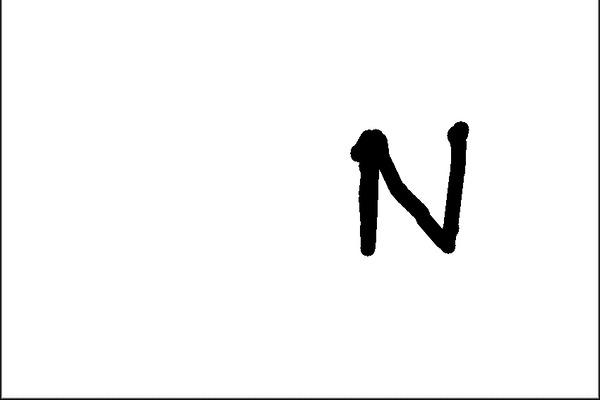N: (341, 116, 474, 265)
